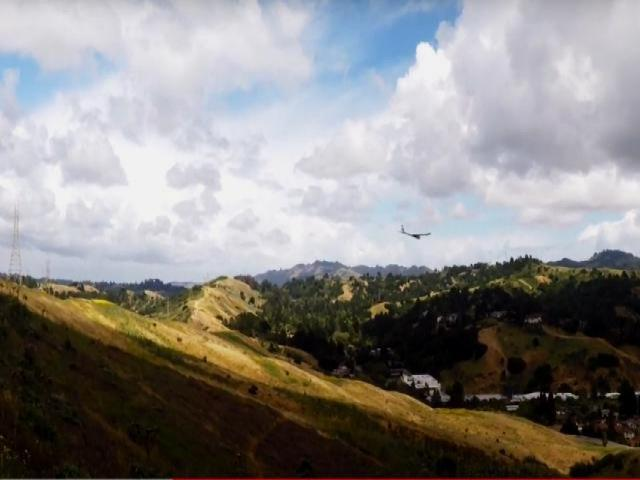iha: (394, 224, 434, 242)
